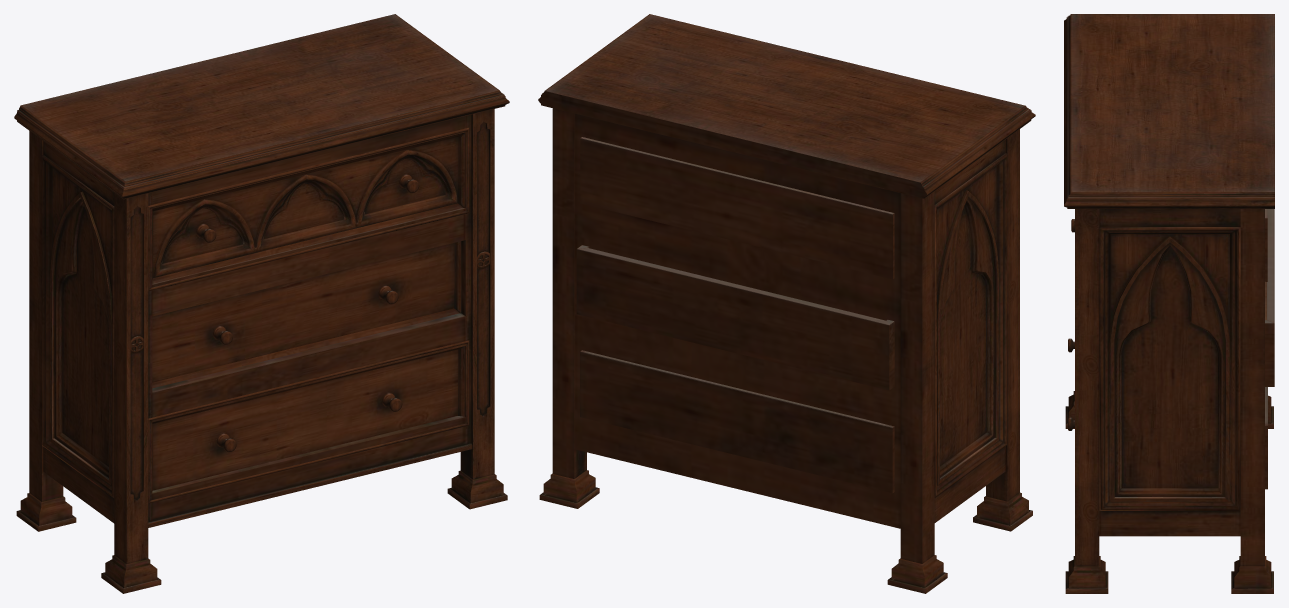
The picture shows the model from 3 angles, left to right: view 1: azimuth 30°, elevation 25°; view 2: azimuth 150°, elevation 25°; view 3: azimuth 270°, elevation 25°; orthographic projection. The views are drawn at different scales.
Parts seen in each view (by area): view 1: GothicCommode_01, GothicCommode_01_door01, GothicCommode_01_door03, GothicCommode_01_door02; view 2: GothicCommode_01, GothicCommode_01_door02, GothicCommode_01_door03, GothicCommode_01_door01; view 3: GothicCommode_01, GothicCommode_01_door02, GothicCommode_01_door03.
Part boxes in pixels (bbox=[...]): GothicCommode_01: bbox=[14, 14, 509, 593]; GothicCommode_01_door01: bbox=[148, 127, 469, 291]; GothicCommode_01_door03: bbox=[148, 340, 469, 503]; GothicCommode_01_door02: bbox=[152, 241, 461, 388]; GothicCommode_01: bbox=[538, 14, 1035, 593]; GothicCommode_01_door02: bbox=[576, 245, 894, 390]; GothicCommode_01_door03: bbox=[580, 350, 894, 493]; GothicCommode_01_door01: bbox=[580, 137, 894, 279]; GothicCommode_01: bbox=[1064, 14, 1274, 593]; GothicCommode_01_door02: bbox=[1265, 209, 1274, 386]; GothicCommode_01_door03: bbox=[1068, 338, 1267, 489].
Size of the model in its own units: 1.2 by 1.21 by 0.5807.
Materials: 1 (1 with a texture image).
